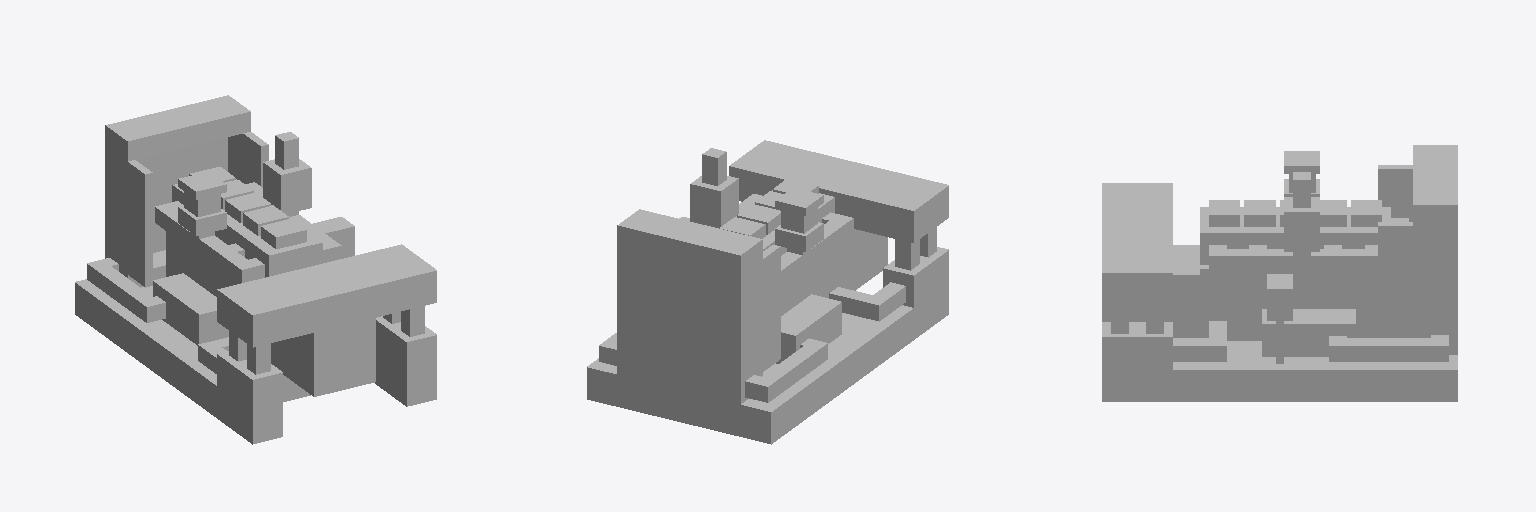
File: diesel_generator.obj
3 renders of one model, left to right at view 1: azimuth 30°, elevation 25°; view 2: azimuth 150°, elevation 25°; view 3: azimuth 270°, elevation 25°, orthographic.
Visible parts, largest first — view 1: base; view 2: base; view 3: base.
Boxes of the visible parts, box(x1,y1,x2,y2) form: base: box(75, 95, 436, 444); base: box(587, 140, 948, 444); base: box(1102, 145, 1457, 401).
Size of the model in its own units: 3 by 3.13 by 5.